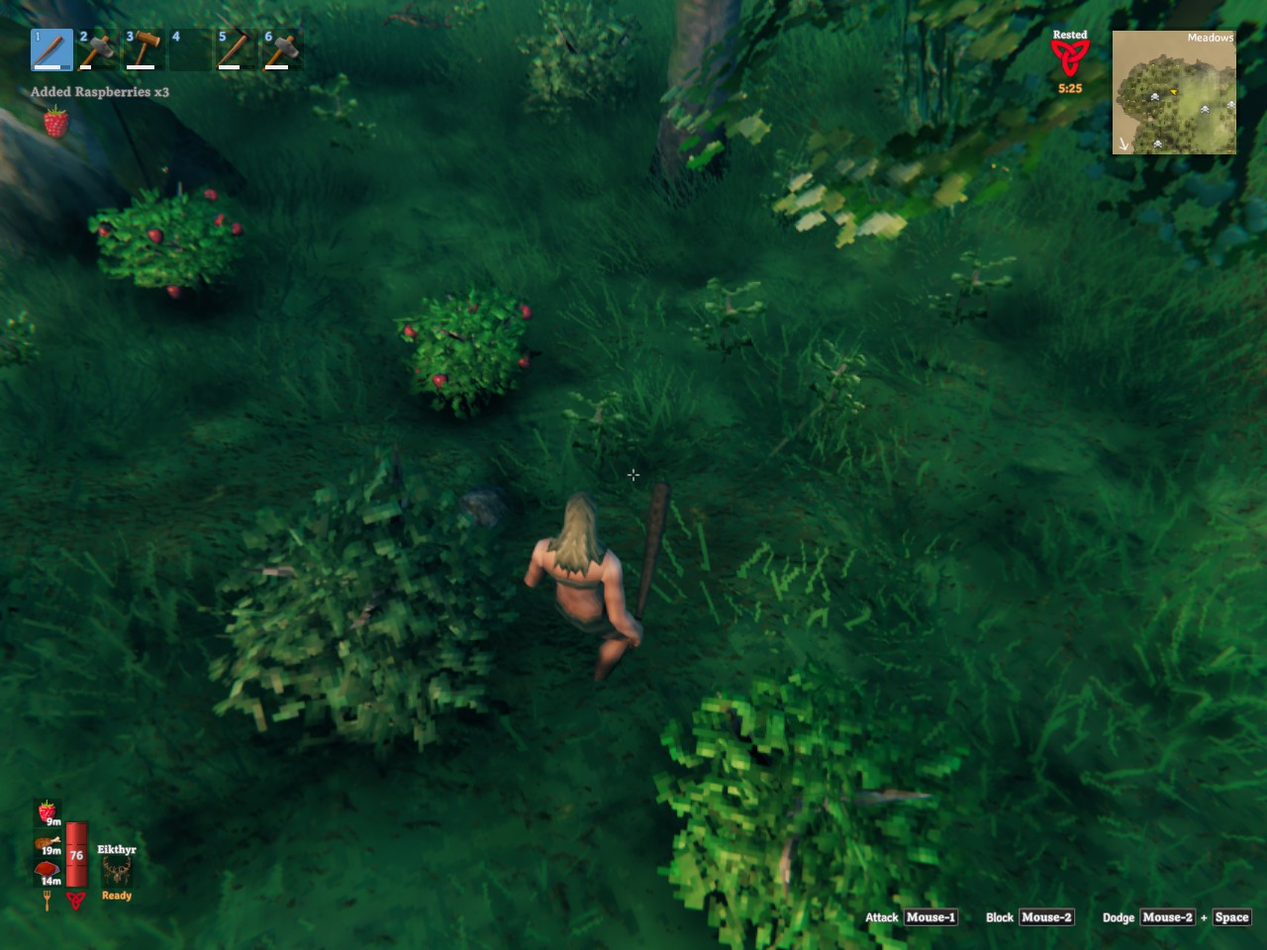Club: (634, 482, 670, 619)
Food Indicator: (36, 797, 63, 891)
Health Bar: (63, 820, 90, 891)
Hotbar: (25, 21, 398, 78)
Raspberries: (100, 193, 251, 301), (400, 298, 537, 404)
Status Indicator: (1039, 25, 1106, 101)
